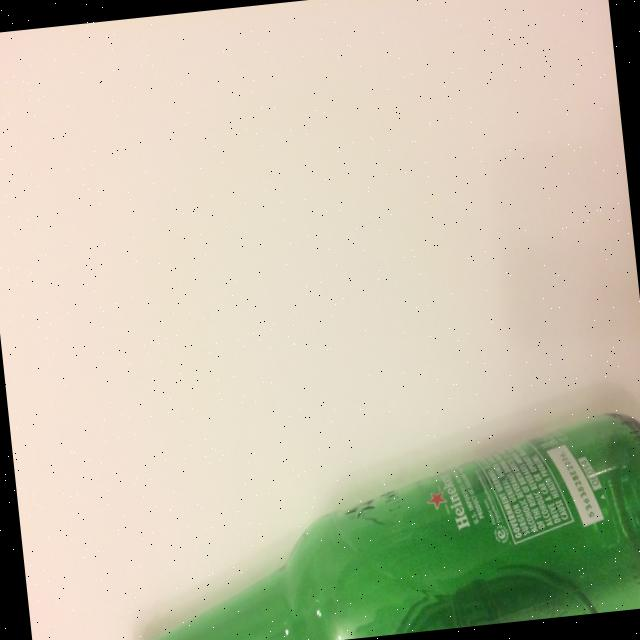glass: (70, 406, 640, 640)
